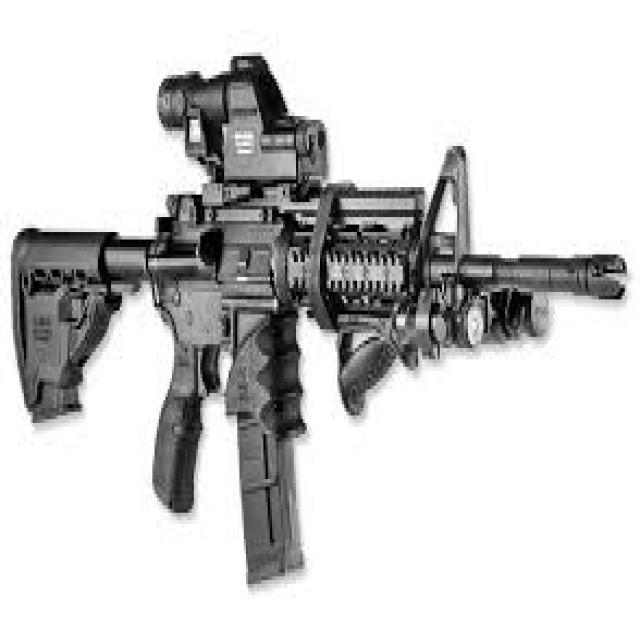rifle: (4, 39, 630, 603)
